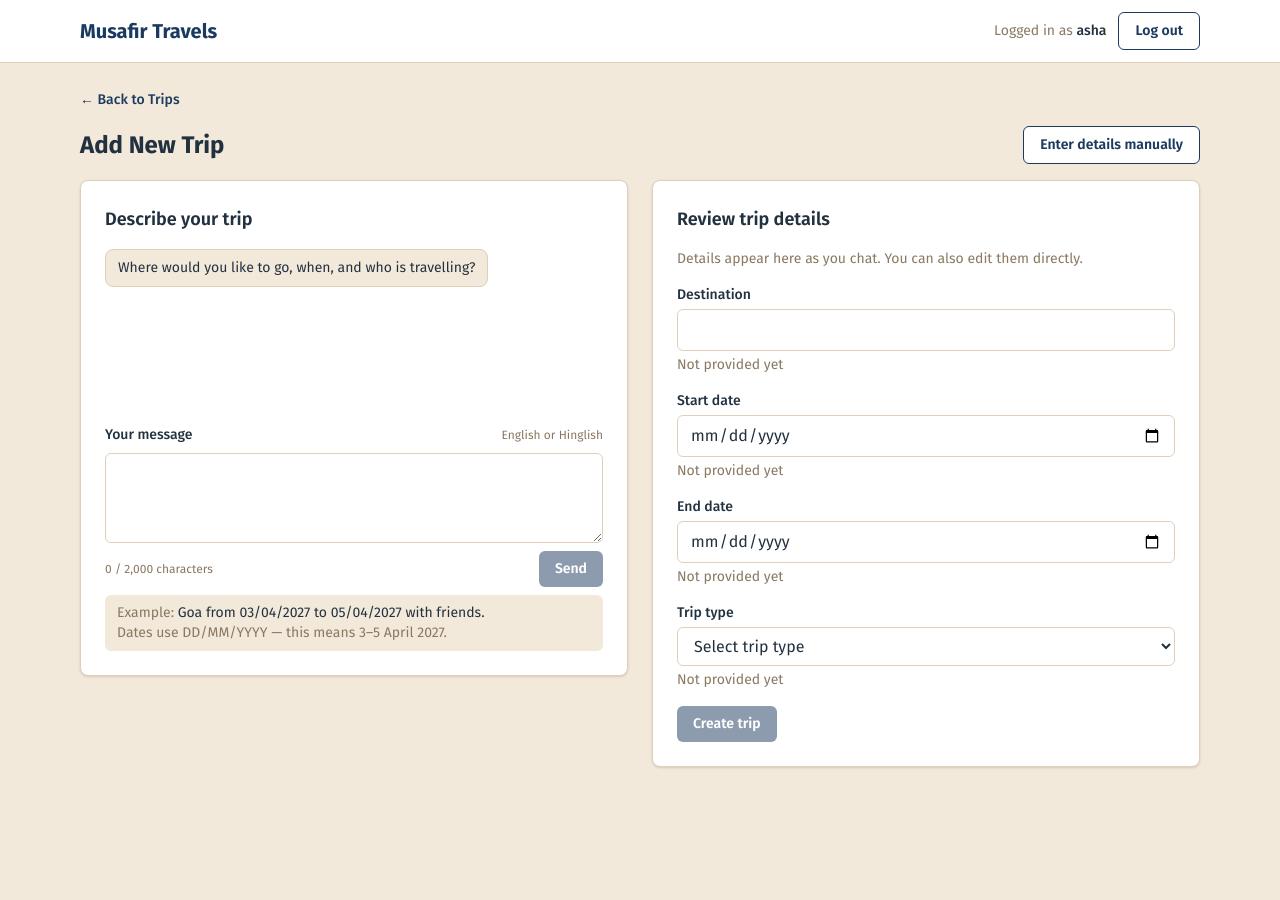
Test: TripChat — stale responses › ignores a response that arrives after switching to manual mode
This screenshot has width=1280, height=900.
Type "Goa from 03/04/2027 to 05/04/2027 with friends" into the text box labelled "Your message". click: point(354, 498)
box: [105, 453, 603, 543]
Then press Enter
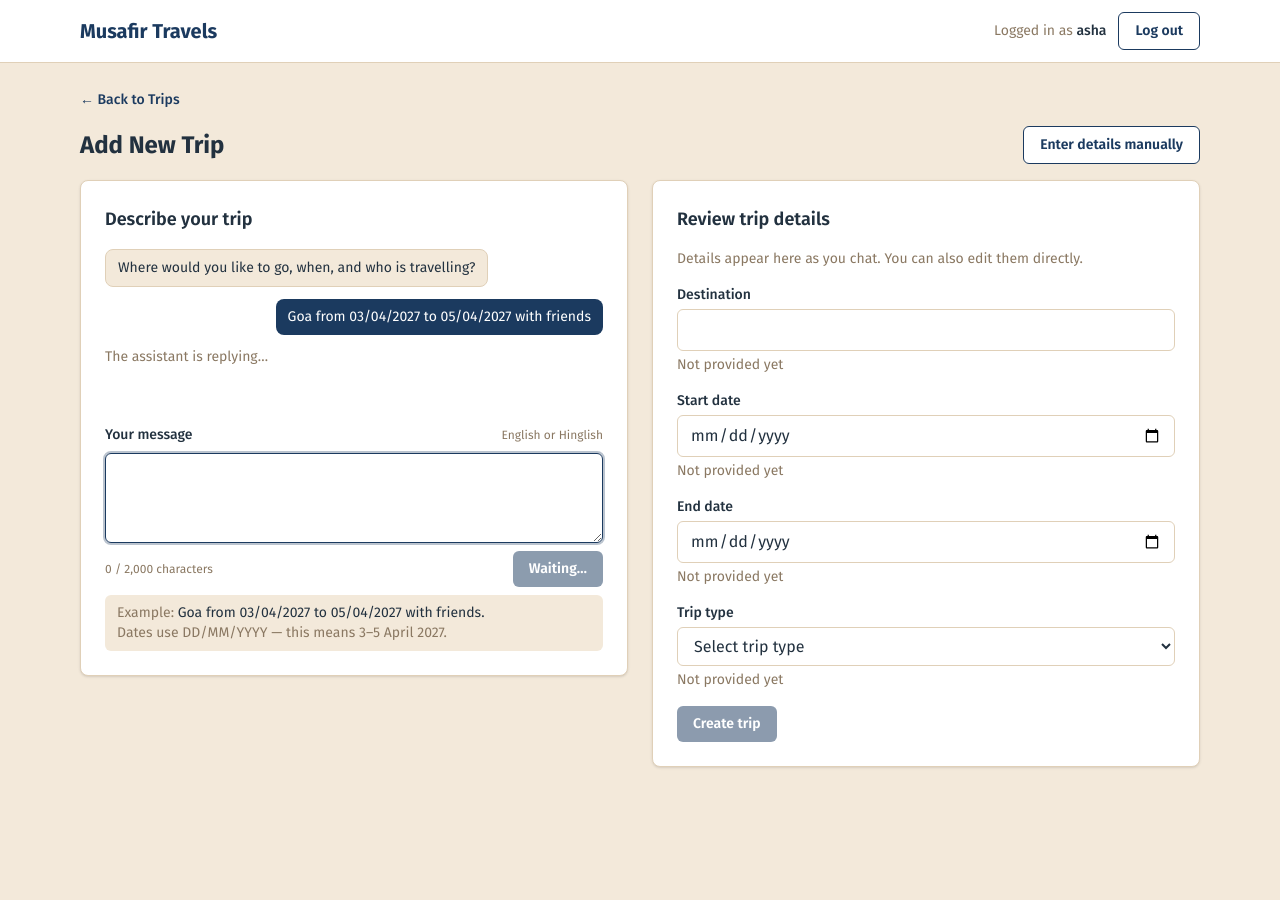
Click the button "Enter details manually". click: point(1112, 145)
box: [1023, 126, 1200, 164]
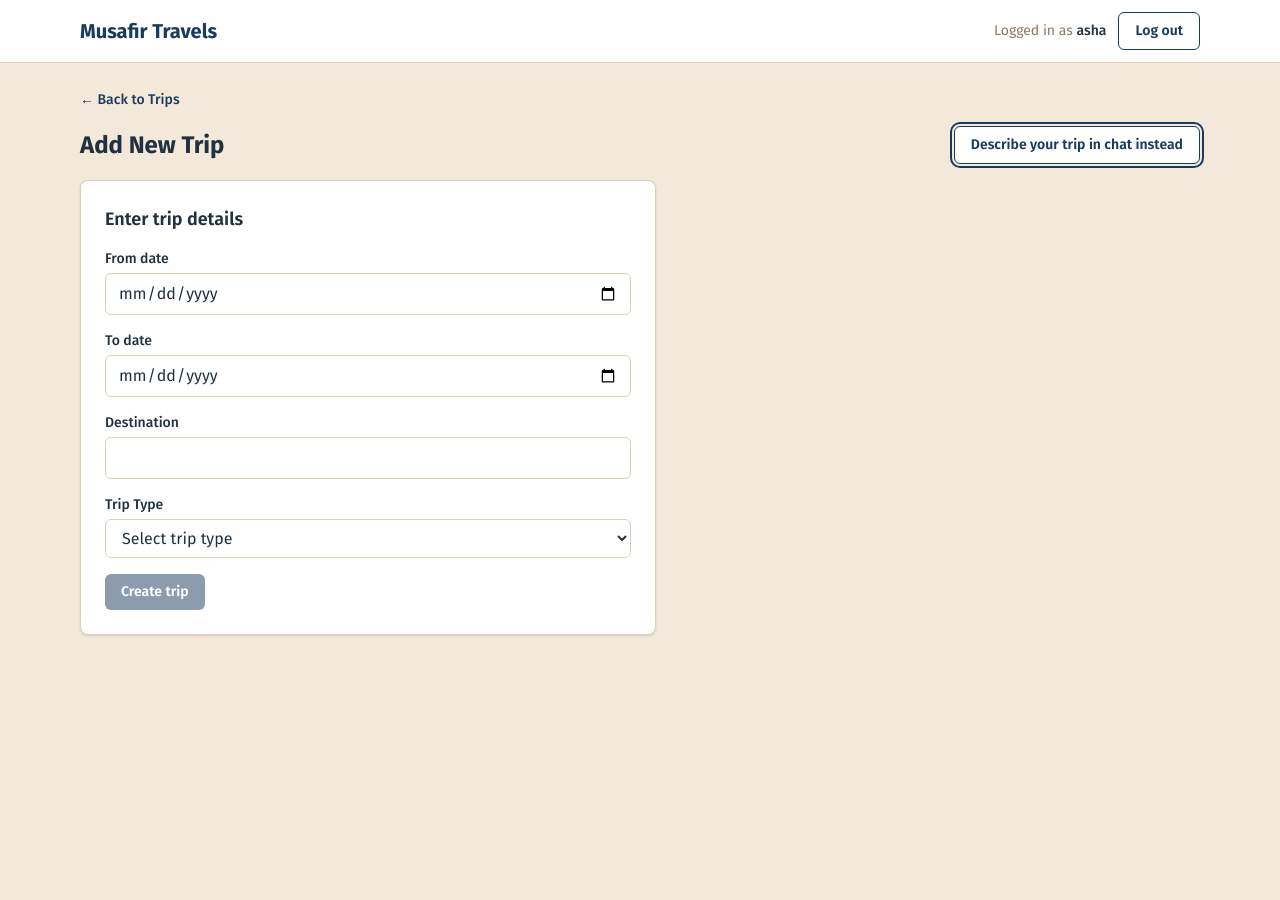
Check: the field labelled "Destination" is empty, box [105, 437, 631, 479]
Check: the dropdown labelled "Trip Type" shows "Select trip type", box [105, 519, 631, 558]
